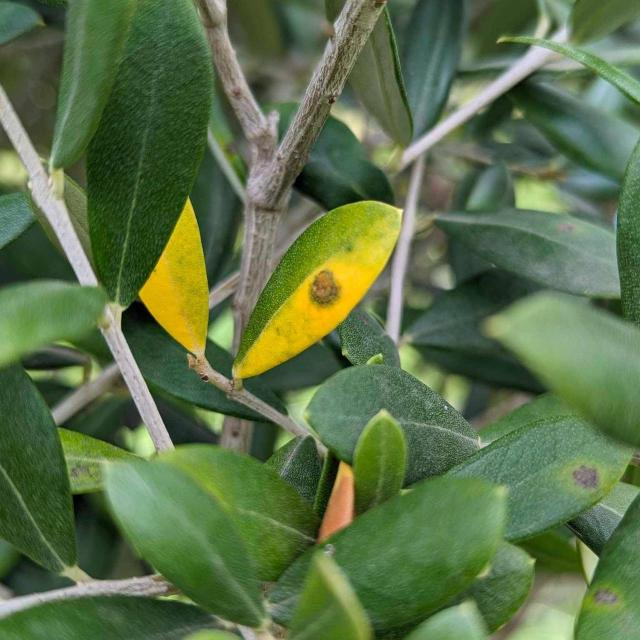Peacock Eye: (232, 201, 402, 385), (139, 198, 208, 354)
